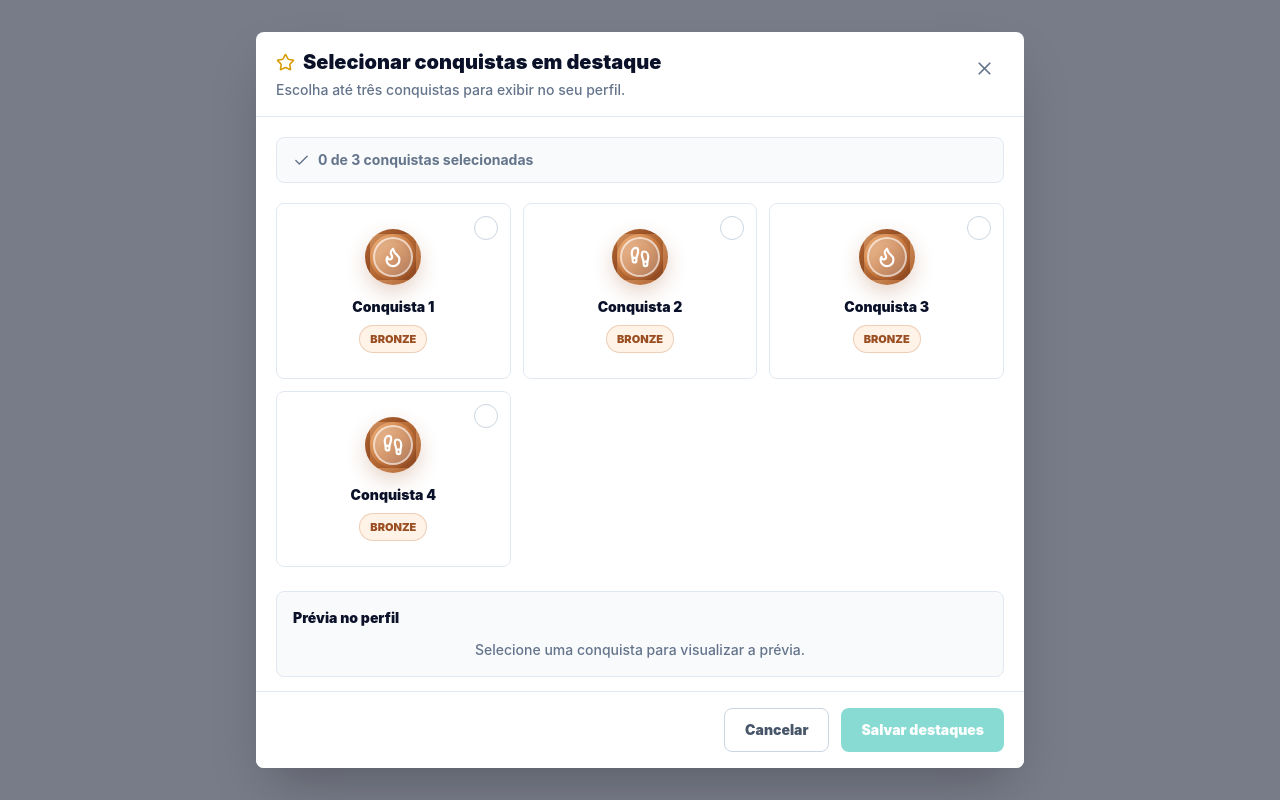
Test: AchievementHighlightsModal › limita a seleção a três conquistas
Click the button "Conquista 1 Bronze": (393, 291) [276,203,511,379]
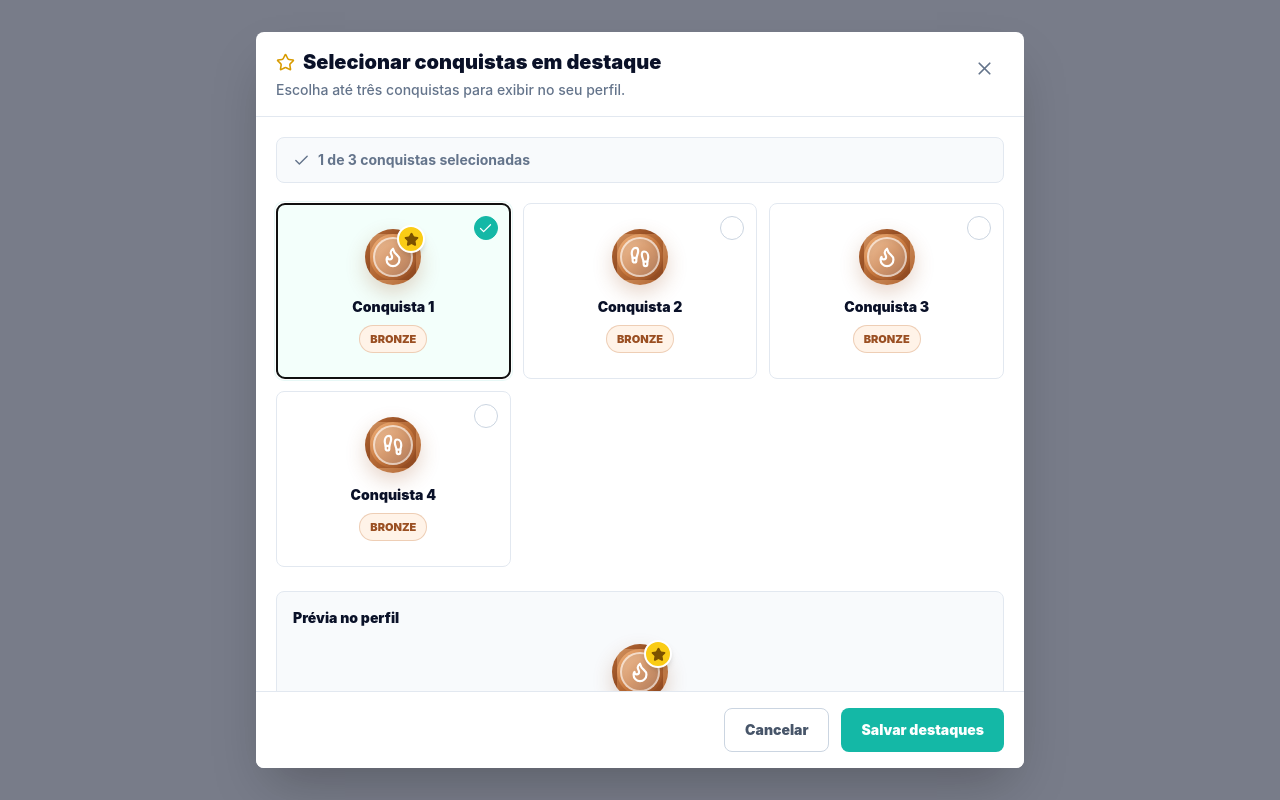
Click the button "Conquista 2 Bronze": (640, 291) [523,203,757,379]
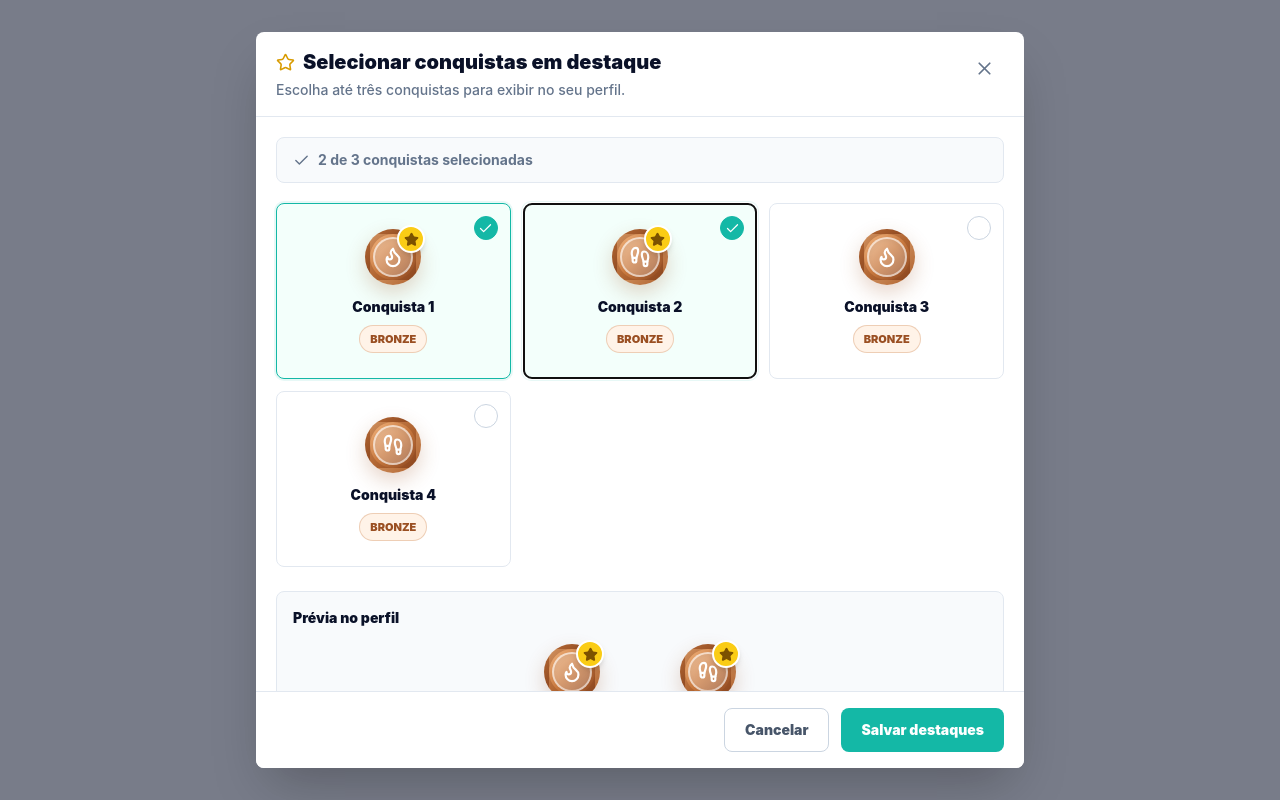
Click the button "Conquista 3 Bronze": (887, 291) [769,203,1004,379]
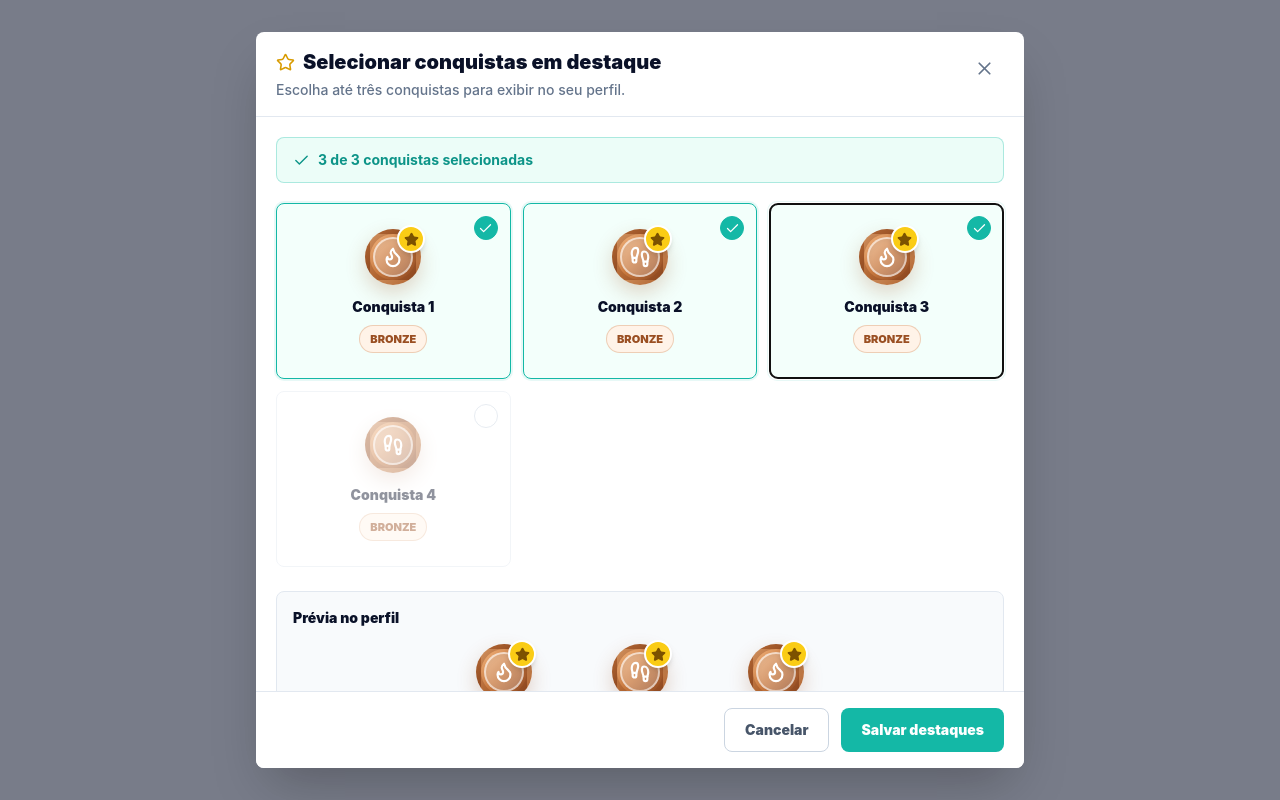
Now the text "3 de 3 conquistas selecionadas" is shown, box [276,137,1004,183]
Now the button "Conquista 4 Bronze" is disabled, box [276,391,511,567]
Click the button "Conquista 1 Bronze": (393, 291) [276,203,511,379]
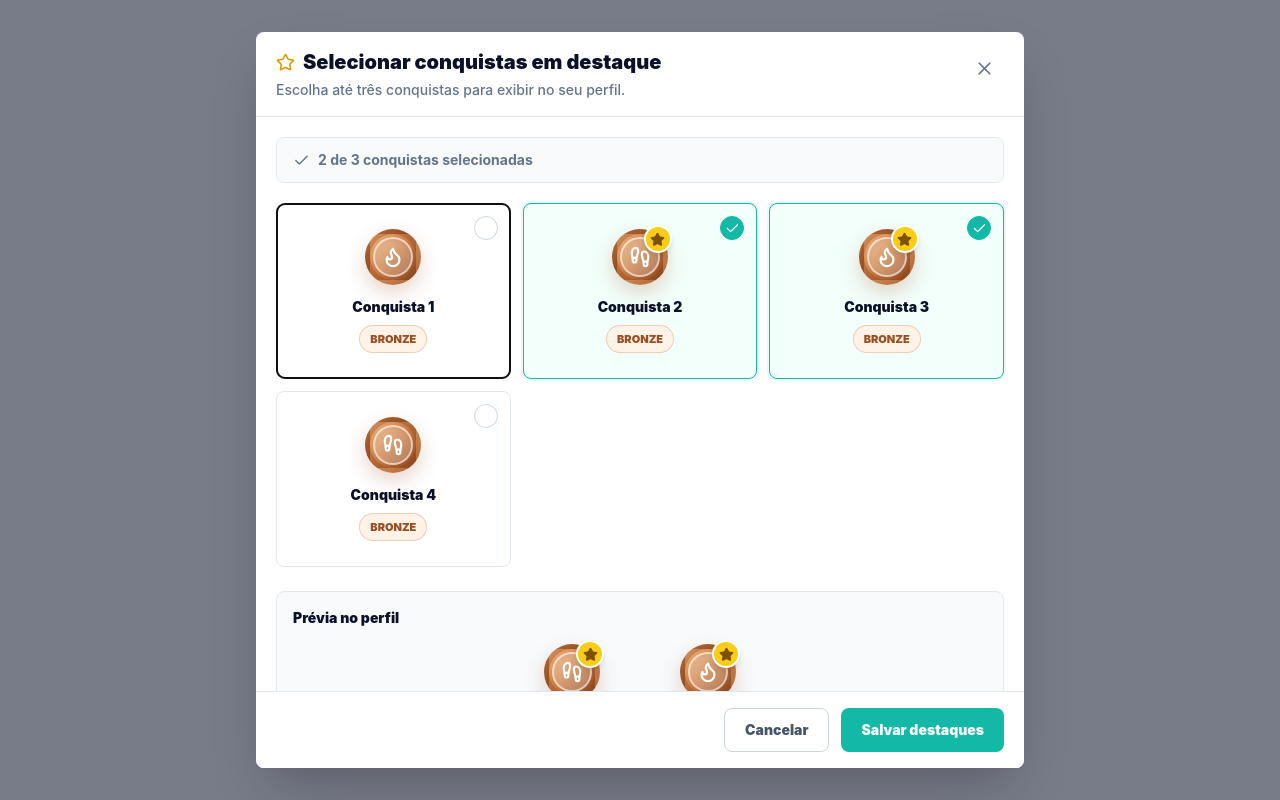
Now the text "2 de 3 conquistas selecionadas" is shown, box [276,137,1004,183]
Now the button "Conquista 4 Bronze" is enabled, box [276,391,511,567]
